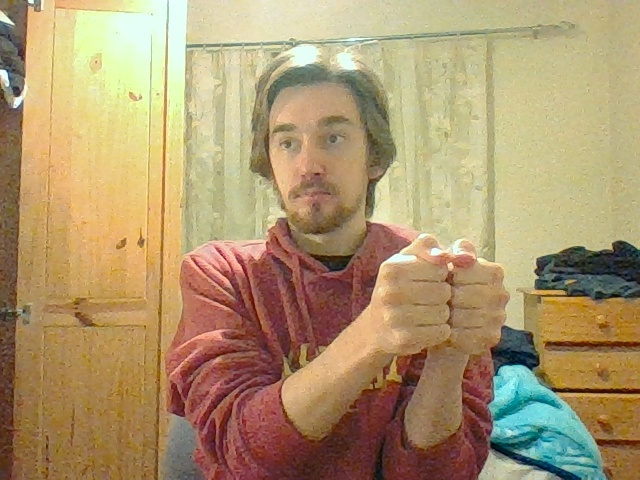brother: (378, 233, 510, 350)
